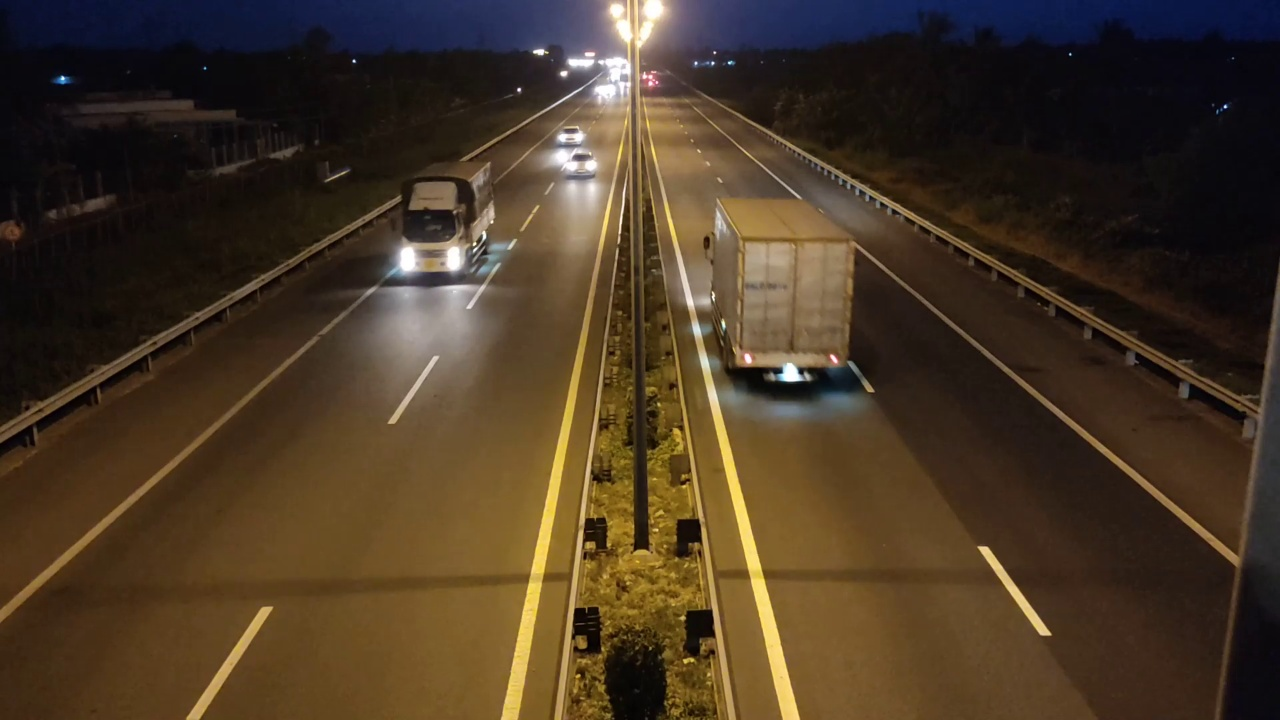car: (561, 149, 597, 179), (555, 125, 586, 147)
truck: (703, 196, 862, 393), (391, 153, 498, 286)
